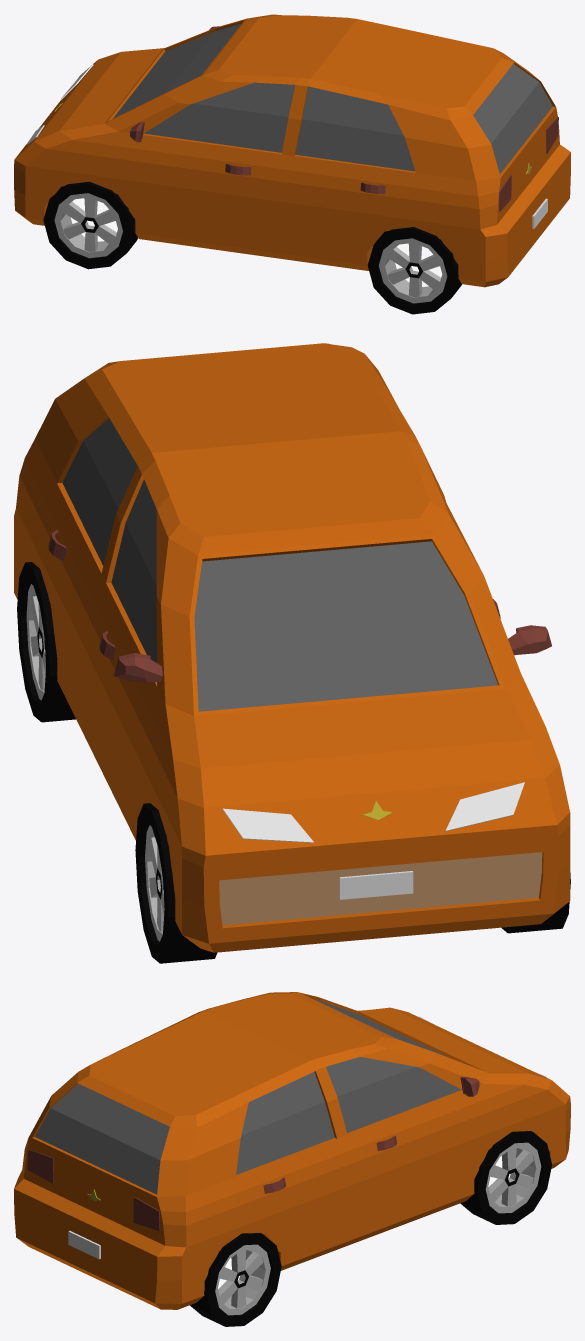
File: Car B Orange.fbx
The picture shows the model from 3 angles, top to bottom: view 1: azimuth 30°, elevation 25°; view 2: azimuth 150°, elevation 25°; view 3: azimuth 270°, elevation 25°; orthographic projection. The views are drawn at different scales.
Parts seen in each view (by area): view 1: Car B Orange; view 2: Car B Orange; view 3: Car B Orange.
Part boxes in pixels (box(x1,y1,x2,y2)): Car B Orange: box(14, 14, 570, 314); Car B Orange: box(14, 343, 570, 963); Car B Orange: box(14, 992, 570, 1326).
Bounding box in the file's own units: 429 × 451 × 190.
